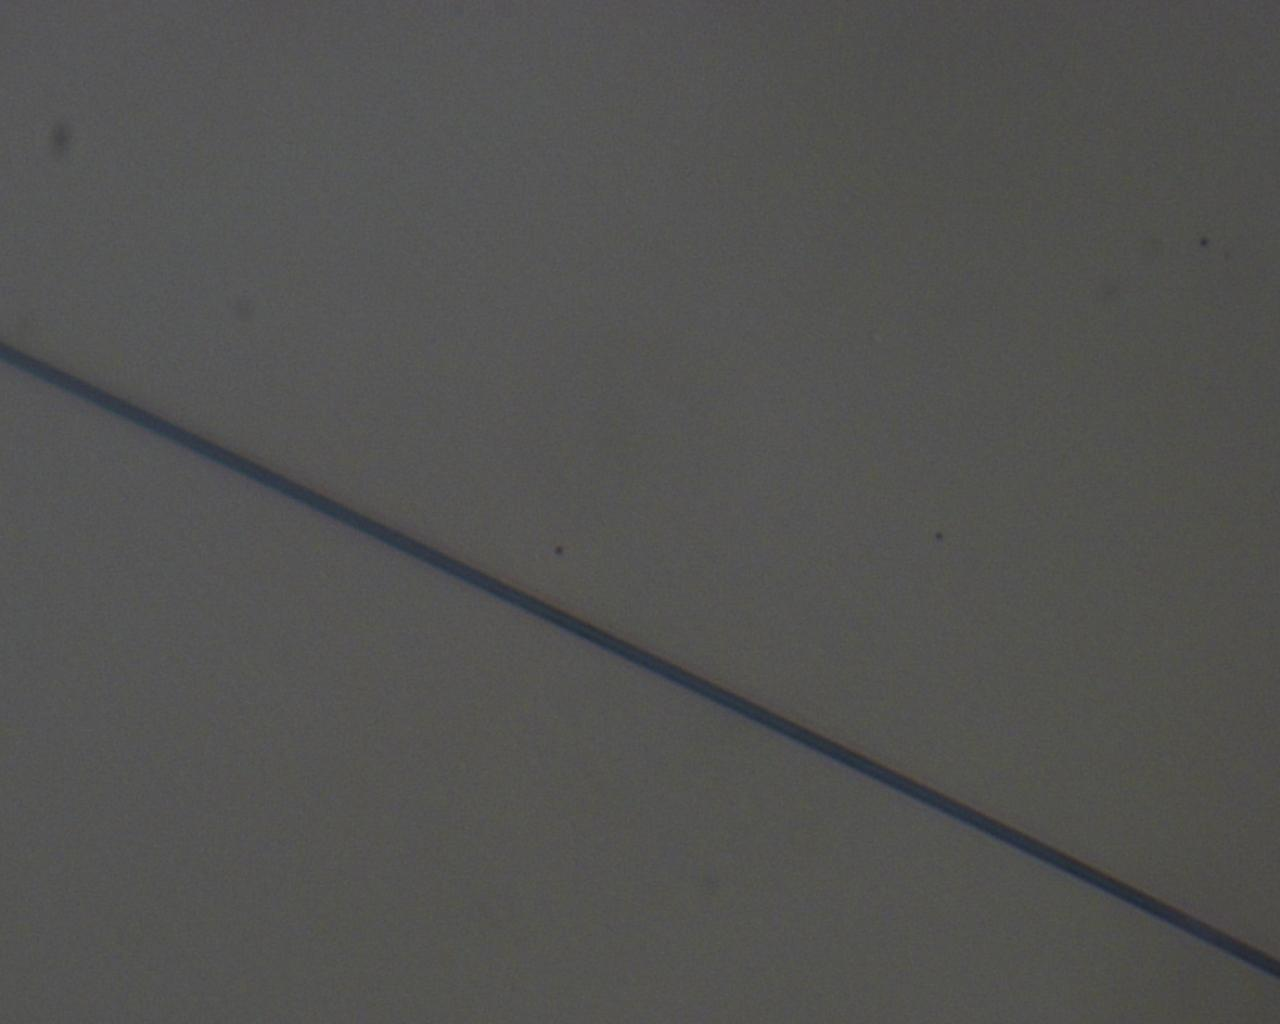fiber: (768, 766, 1280, 995), (768, 263, 1246, 474), (13, 0, 768, 116), (0, 911, 768, 1008)
